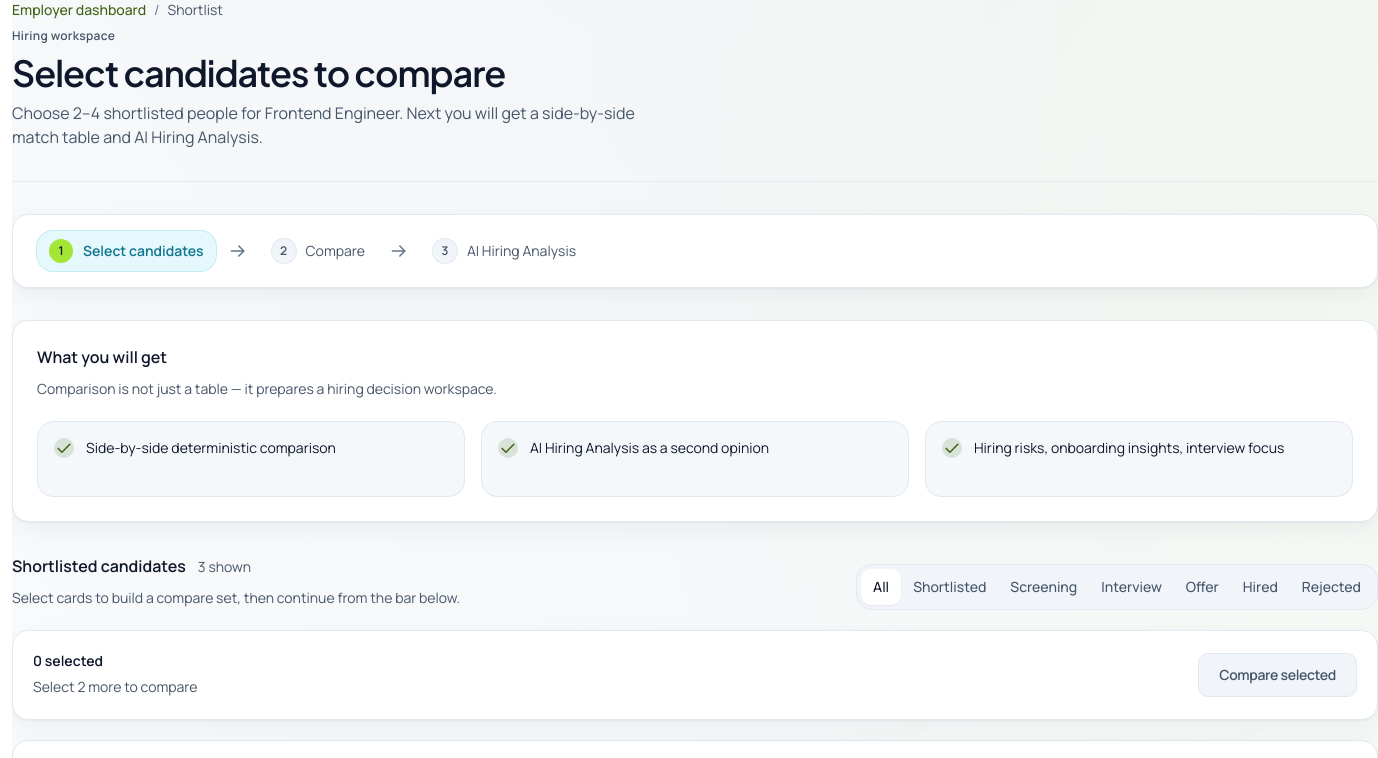
it: Employer shortlist UI › filters the shortlist page by hiring stage without changing backend order
Step 1. Click the button "Interview" → (1132, 587), box [1089,569,1174,605]
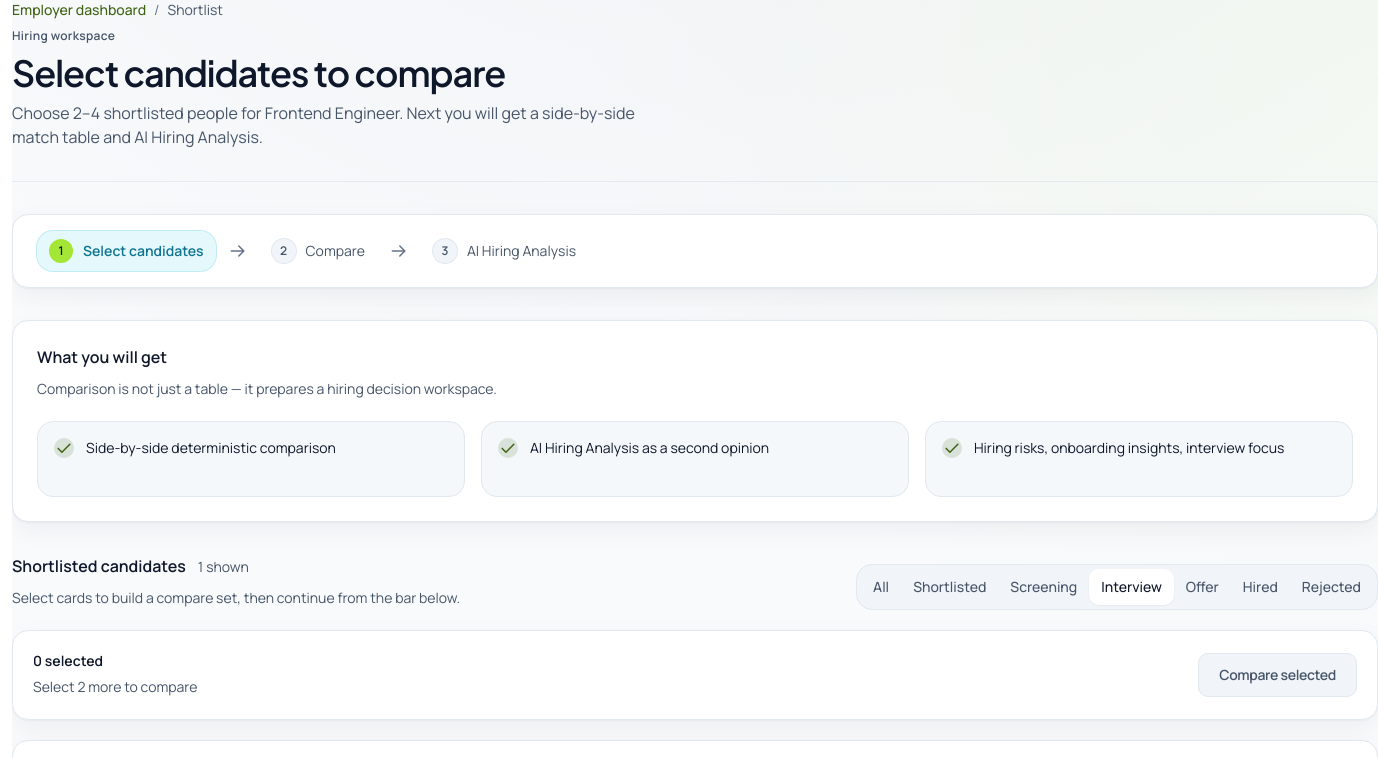
Step 2. Click the button "Offer" → (1202, 587), box [1174,569,1231,605]
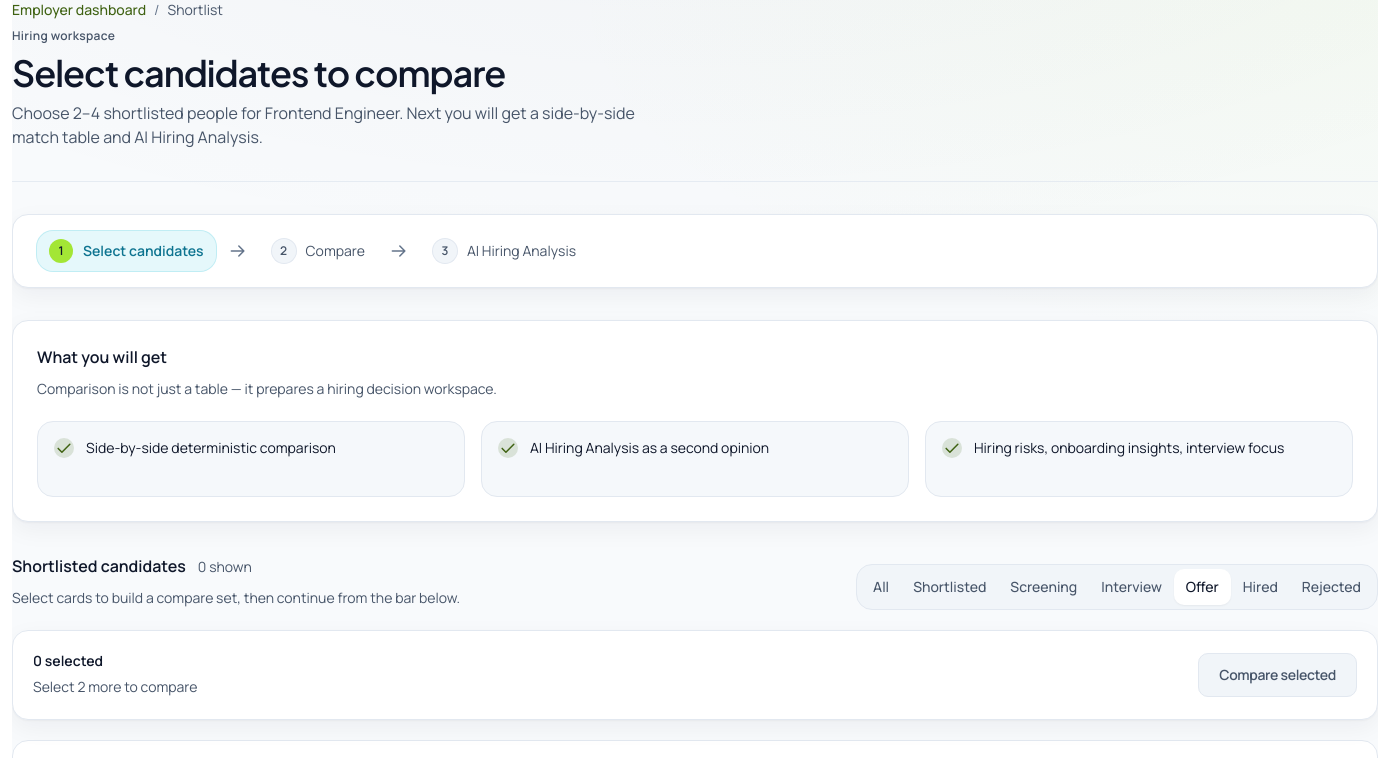
Step 3. Click the button "All" → (881, 587), box [861,569,901,605]
(page scrolled)
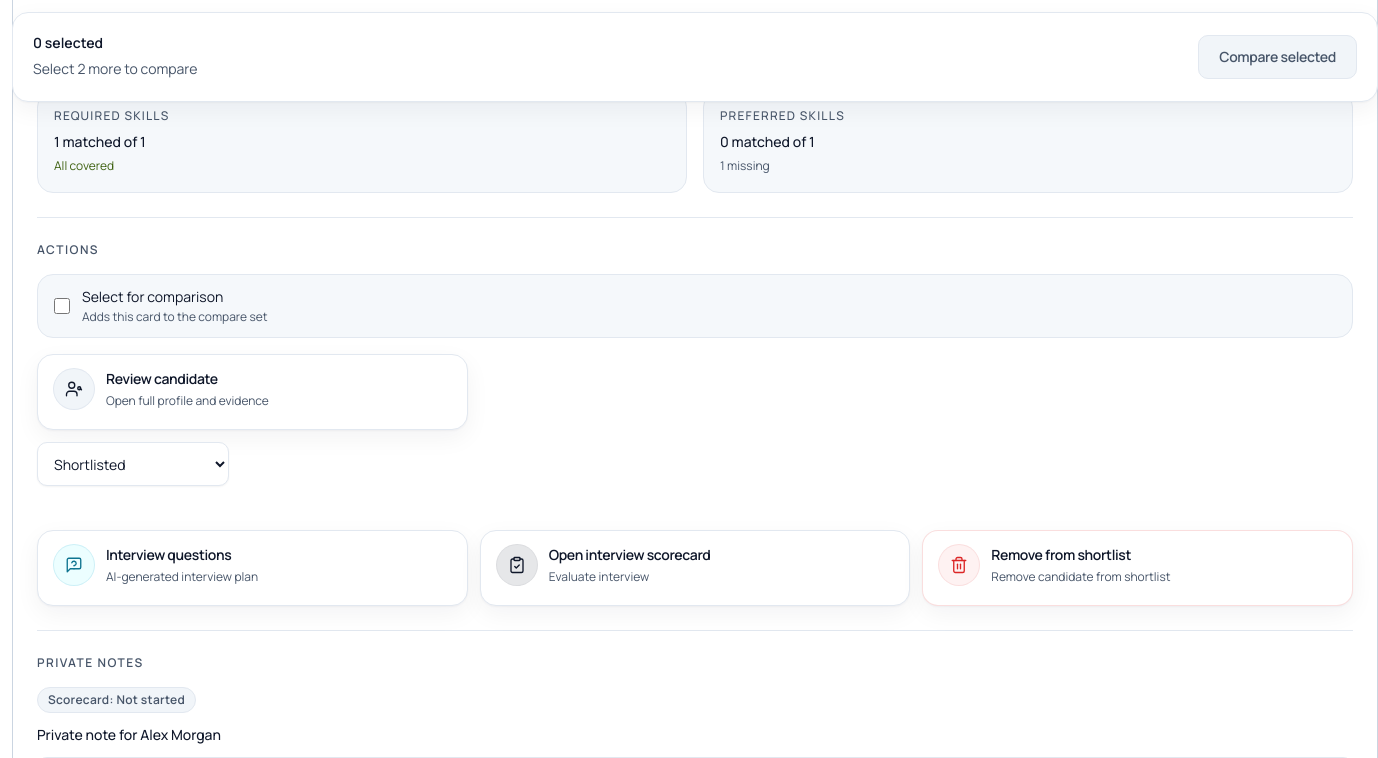
Check: the link with aria-label "Review candidate Alex Morgan" is shown, box [37,354,468,430]
